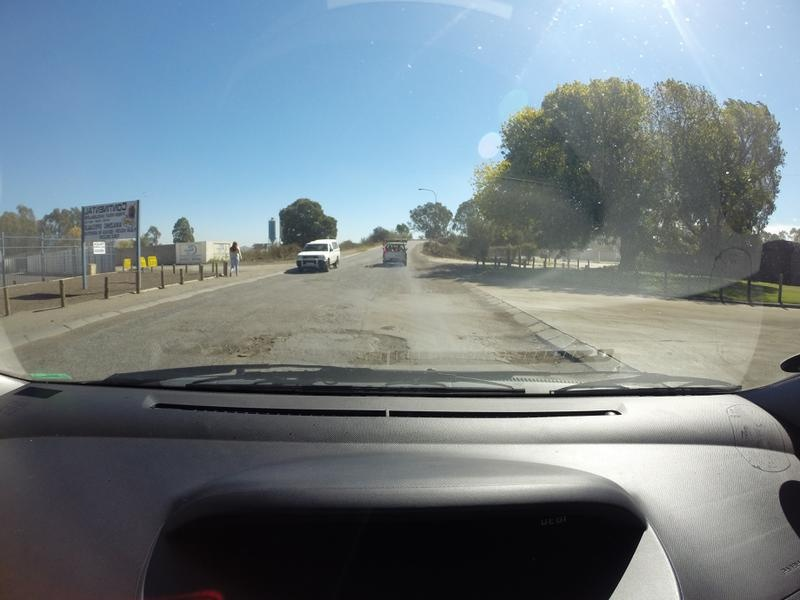pothole: (212, 321, 281, 367), (345, 324, 416, 368), (483, 337, 559, 377)
